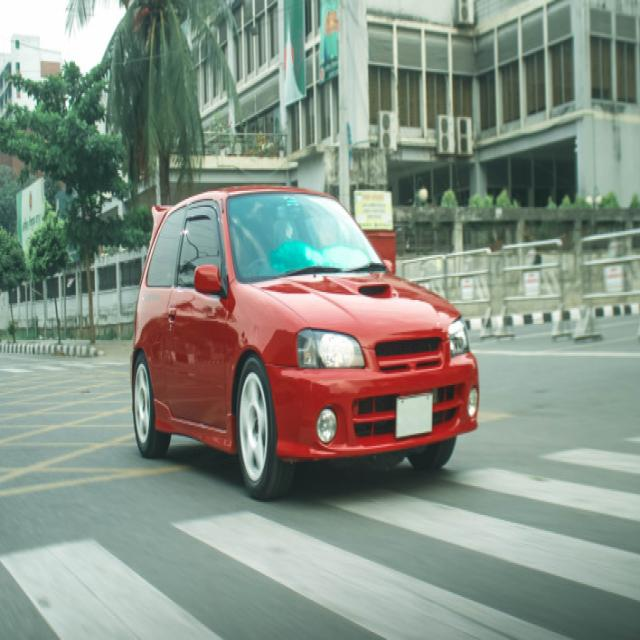red: (128, 158, 490, 505)
